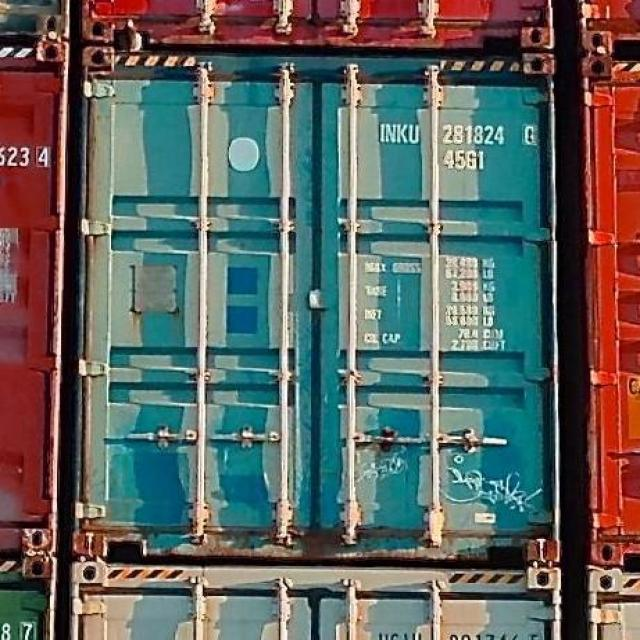ISO: (443, 149, 488, 173)
container_number: (378, 120, 540, 148)
